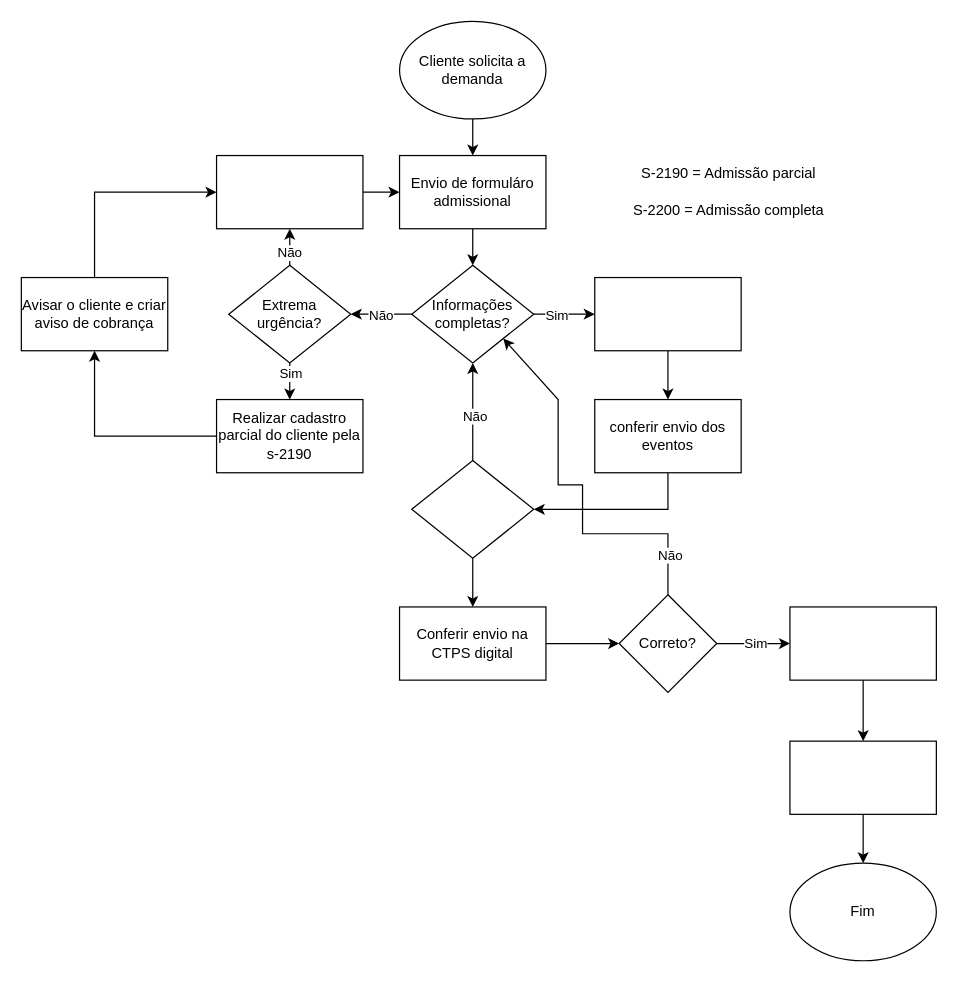
The diagram is 958 pixels wide and 982 high, and some of its shapes have lost their labels. Each missing label, with the centre of its shape:
Armazenar dados e documentos do cliente na respectiva pasta do mesmo: the point at 862,777
Confirmar conclusão para o cliente: the point at 862,643
Enviado?: the point at 472,508
Realizar/concluir cadastro das informações no sistema s-2200: the point at 667,313
Solicita retificação.: the point at 289,191
